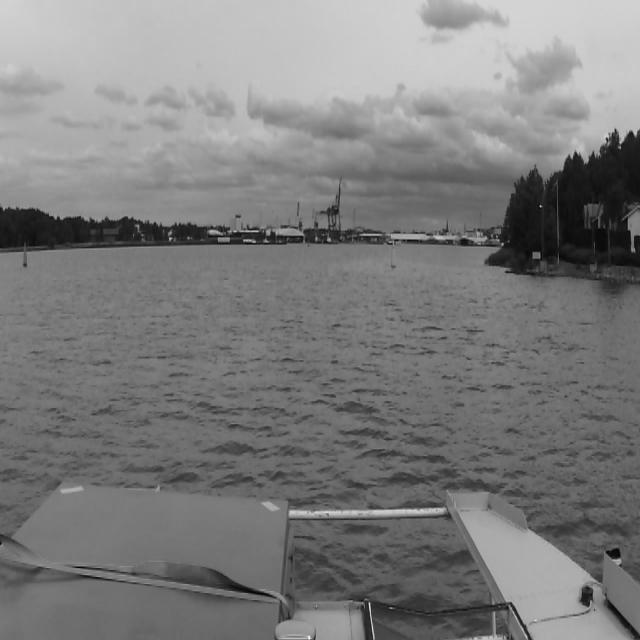buoy: (392, 246, 396, 268), (23, 248, 27, 267)
